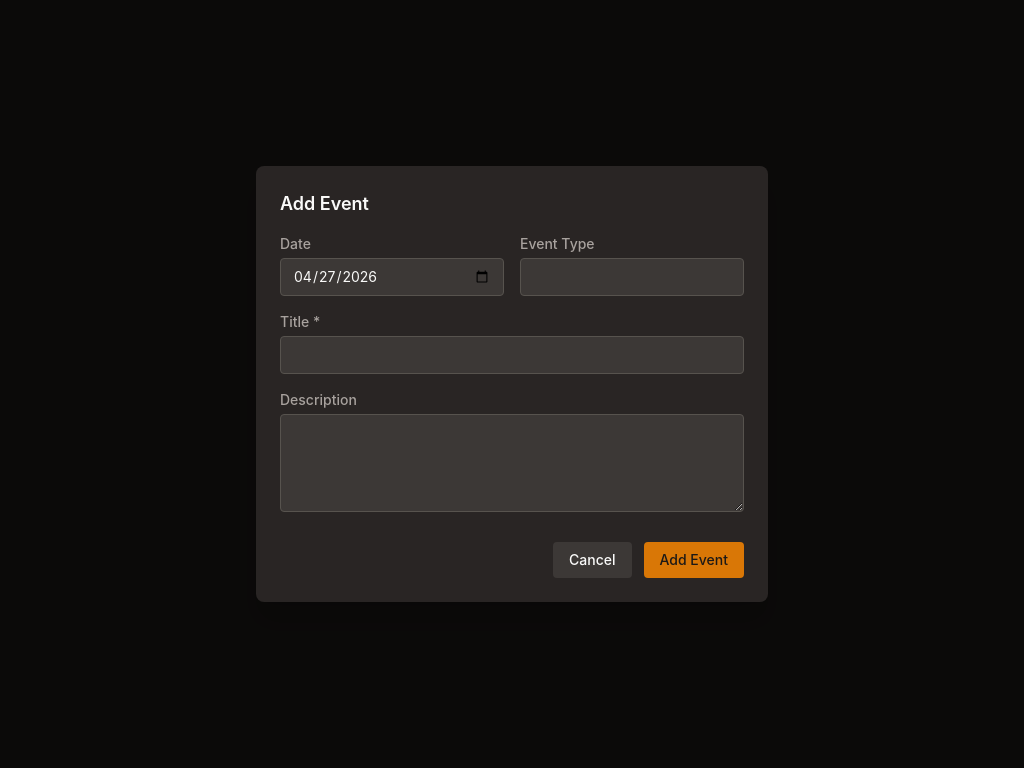
Test: EventForm › shows inline error when Title is empty
Click the button "Add Event" at point(694, 560), box [644,542,744,578]
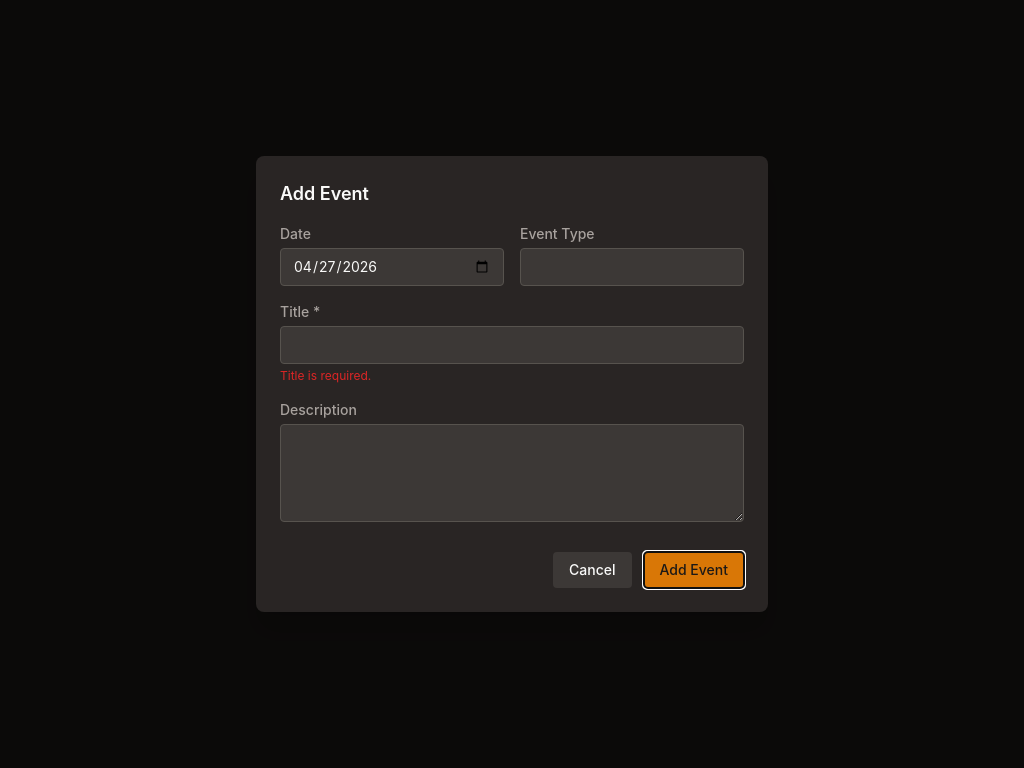
Now the text "Title is required." is shown, box [280,368,371,383]
